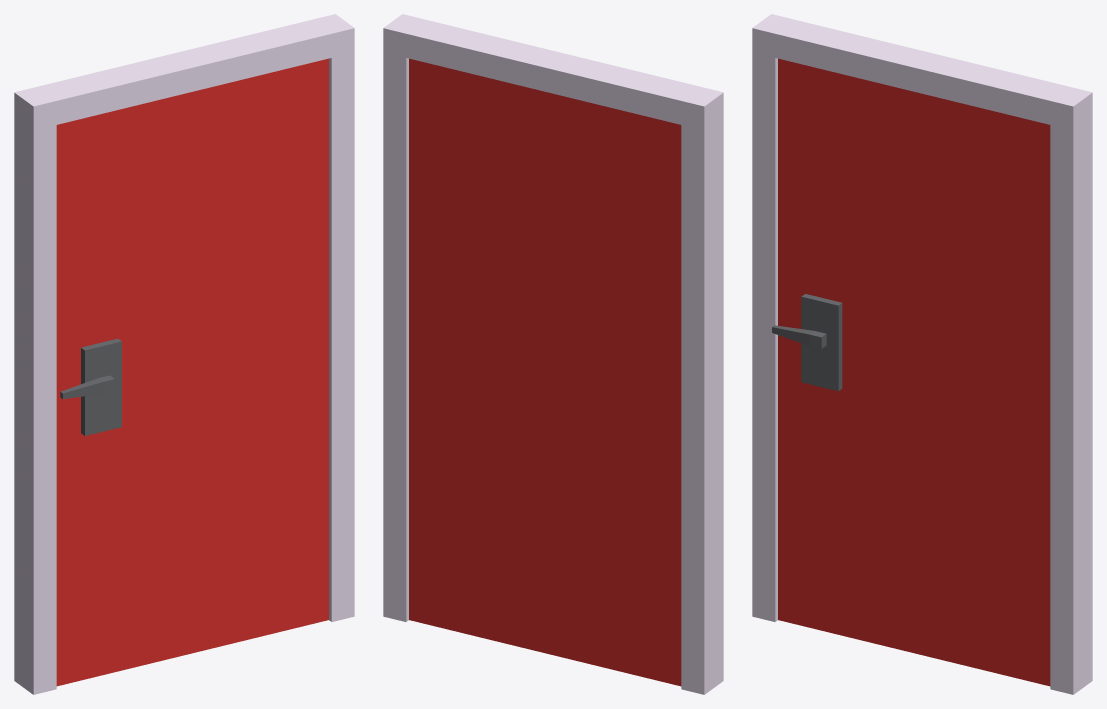
Rendered from MainMenuDoor.fbx.
3 renders of one model, left to right at view 1: azimuth 30°, elevation 25°; view 2: azimuth 150°, elevation 25°; view 3: azimuth 330°, elevation 25°, orthographic.
Visible parts, largest first — view 1: Door, DoorFrame; view 2: Door, DoorFrame; view 3: Door, DoorFrame.
Part boxes in pixels (<box>): Door: <box>56,58,328,686</box>; DoorFrame: <box>14,14,354,694</box>; Door: <box>409,58,681,686</box>; DoorFrame: <box>383,14,723,694</box>; Door: <box>772,58,1050,686</box>; DoorFrame: <box>752,14,1092,694</box>.
Size of the model in its own units: 200 by 350 by 27.41.
